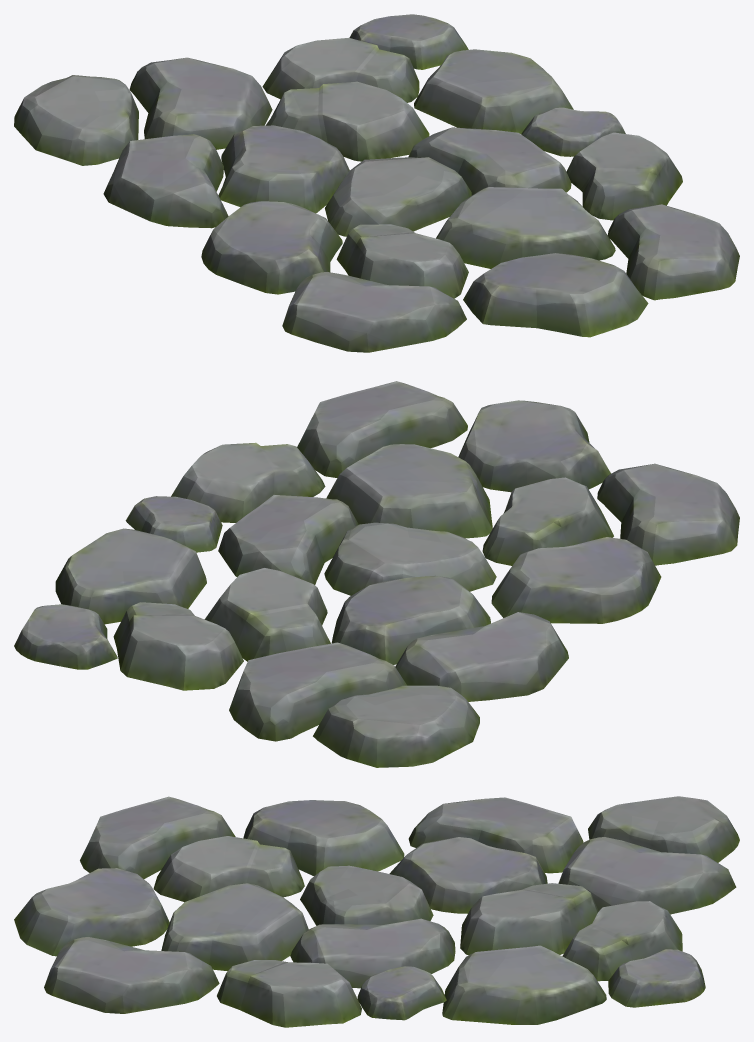
The model's file is sn_rock_path_round_thin.glb.
3 views of the same model, one above another, from view 1: azimuth 30°, elevation 25°; view 2: azimuth 150°, elevation 25°; view 3: azimuth 270°, elevation 25° (orthographic). The views are drawn at different scales.
Parts seen in each view (by area): view 1: RockPath_Round_Thin; view 2: RockPath_Round_Thin; view 3: RockPath_Round_Thin.
Part boxes in pixels (bbox=[...]): RockPath_Round_Thin: bbox=[14, 14, 739, 352]; RockPath_Round_Thin: bbox=[14, 381, 739, 767]; RockPath_Round_Thin: bbox=[14, 796, 739, 1027].
Size of the model in its own units: 1.46 by 0.1104 by 2.09.
1 material, 1 textured.
